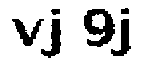9: (80, 7, 115, 49)
j: (41, 6, 66, 60), (113, 7, 133, 60)
v: (8, 15, 43, 47)
